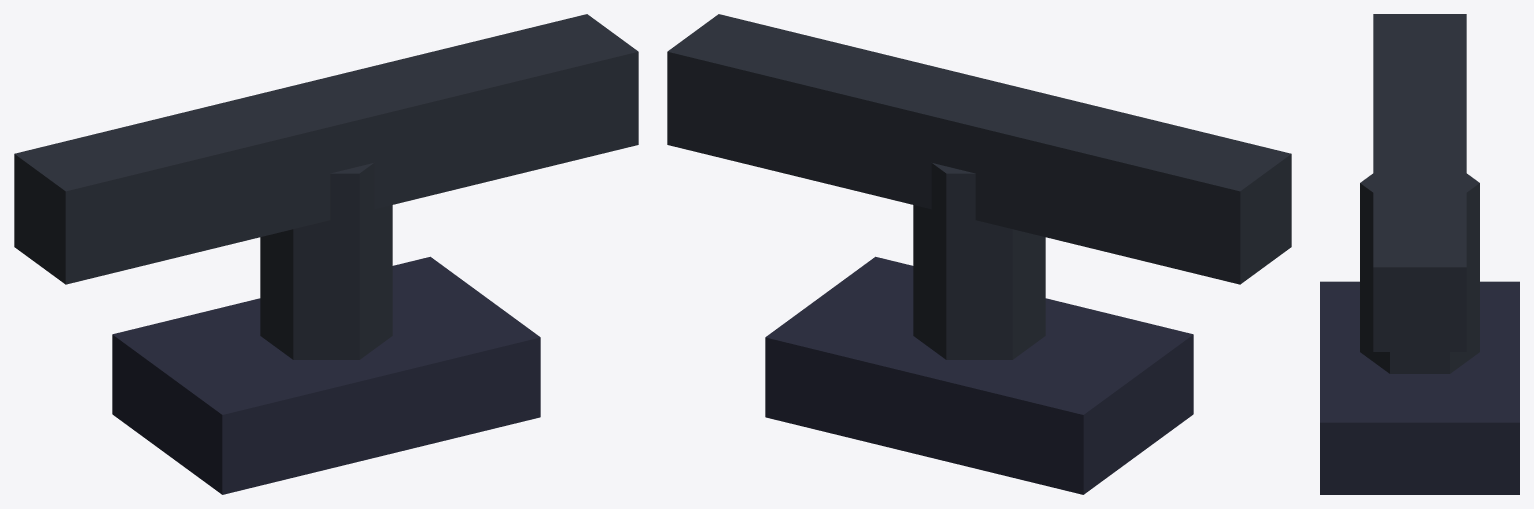
Rendered from cleat.glb.
3 views of the same model, side by side, from view 1: azimuth 30°, elevation 25°; view 2: azimuth 150°, elevation 25°; view 3: azimuth 270°, elevation 25° (orthographic). The views are drawn at different scales.
Visible parts, largest first — view 1: cleat; view 2: cleat; view 3: cleat.
Part boxes in pixels (x1,y1,x2,y2): cleat: (14, 14, 638, 494); cleat: (667, 14, 1291, 494); cleat: (1320, 14, 1519, 494).
Size of the model in its own units: 1.22 by 0.6345 by 0.405.
